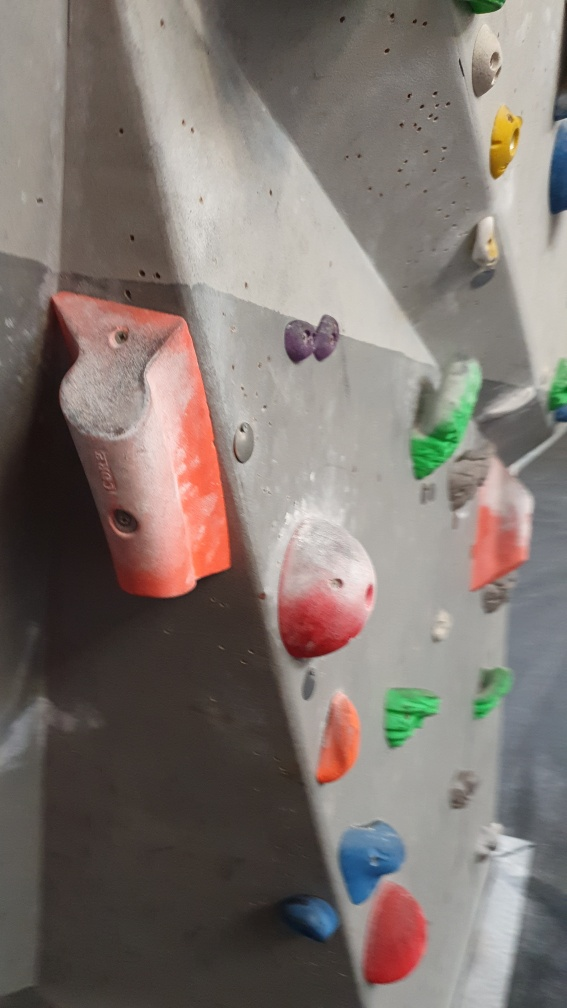Hand Start: (230, 422, 256, 465), (299, 666, 317, 703)
Jug: (408, 356, 481, 484), (381, 681, 446, 752), (469, 656, 516, 724)
Pinch: (47, 286, 237, 599), (470, 450, 535, 593)
Sloper: (270, 514, 381, 660), (353, 882, 427, 990)
